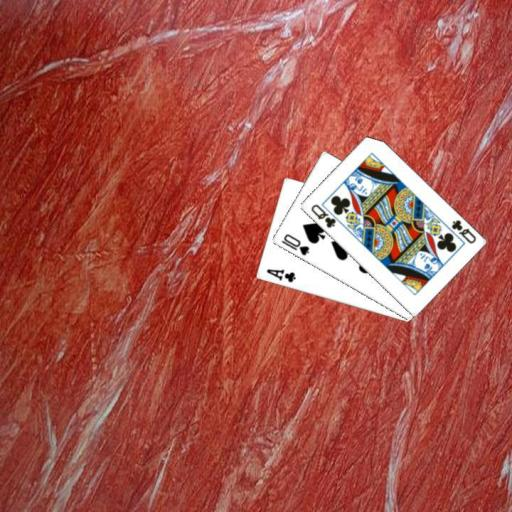10S: (278, 231, 311, 258)
AC: (263, 266, 297, 284)
QC: (307, 201, 337, 230), (448, 217, 477, 246)
